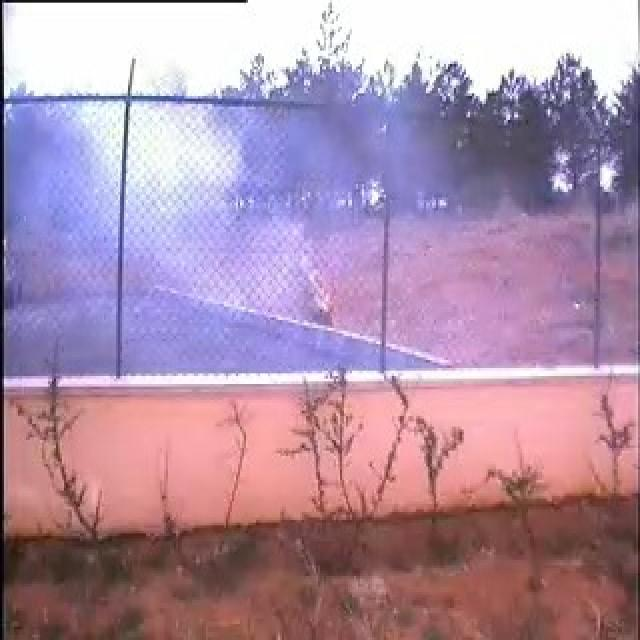smoke: (86, 101, 345, 351)
